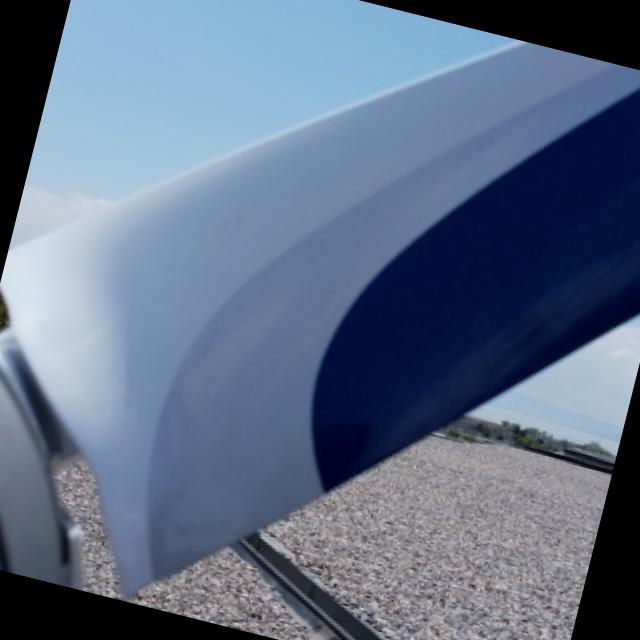healthy: (0, 0, 640, 589)
